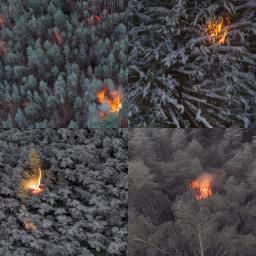Small fire: (94, 83, 126, 123), (13, 165, 44, 201), (190, 163, 216, 205), (201, 16, 233, 46)
